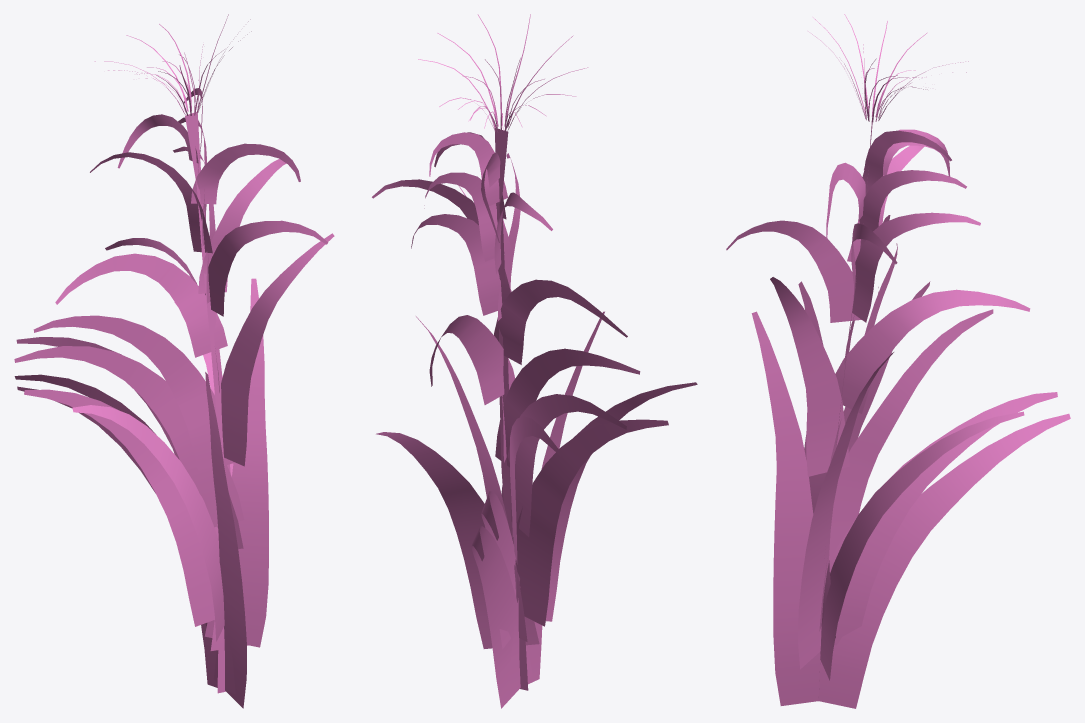
File: plante.fbx
3 views of the same model, side by side, from view 1: azimuth 30°, elevation 25°; view 2: azimuth 150°, elevation 25°; view 3: azimuth 270°, elevation 25° (orthographic). The views are drawn at different scales.
Parts seen in each view (by area): view 1: plante; view 2: plante; view 3: plante.
Boxes of the visible parts, left/top/right/bottom form: plante: left=14, top=14, right=334, bottom=708; plante: left=372, top=14, right=697, bottom=708; plante: left=726, top=14, right=1070, bottom=708.
Size of the model in its own units: 0.9547 by 2.15 by 0.9937.
